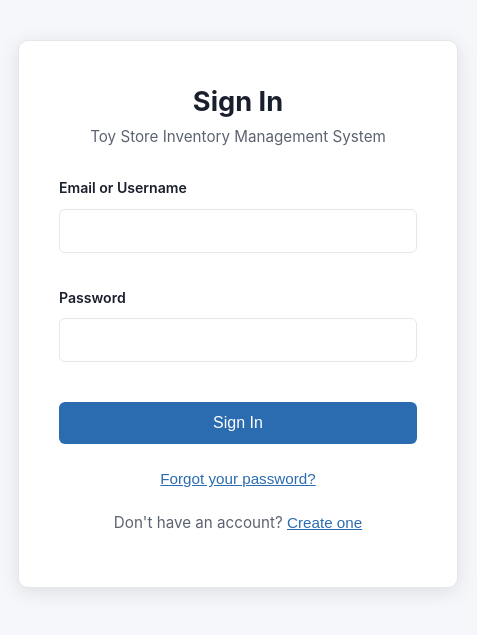
Test: Login Page › shows error when email/username is empty on login
Step 1. Click the button "Sign In" → [238, 423], box top-left (59, 402), bottom-right (417, 444)
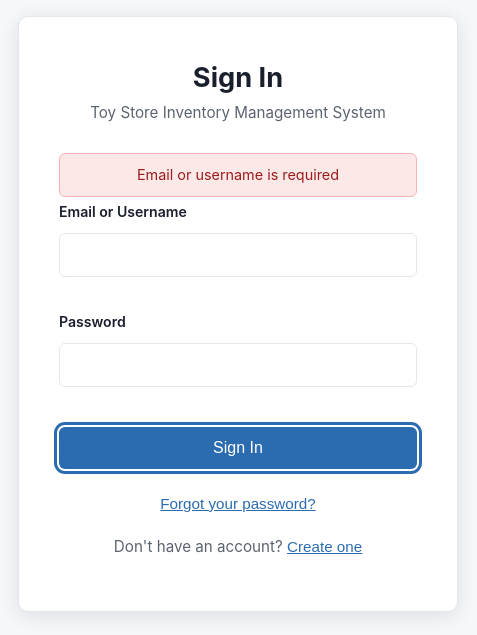
Result: the message reads "Email or username is required" at top-left (137, 166), bottom-right (339, 183)
